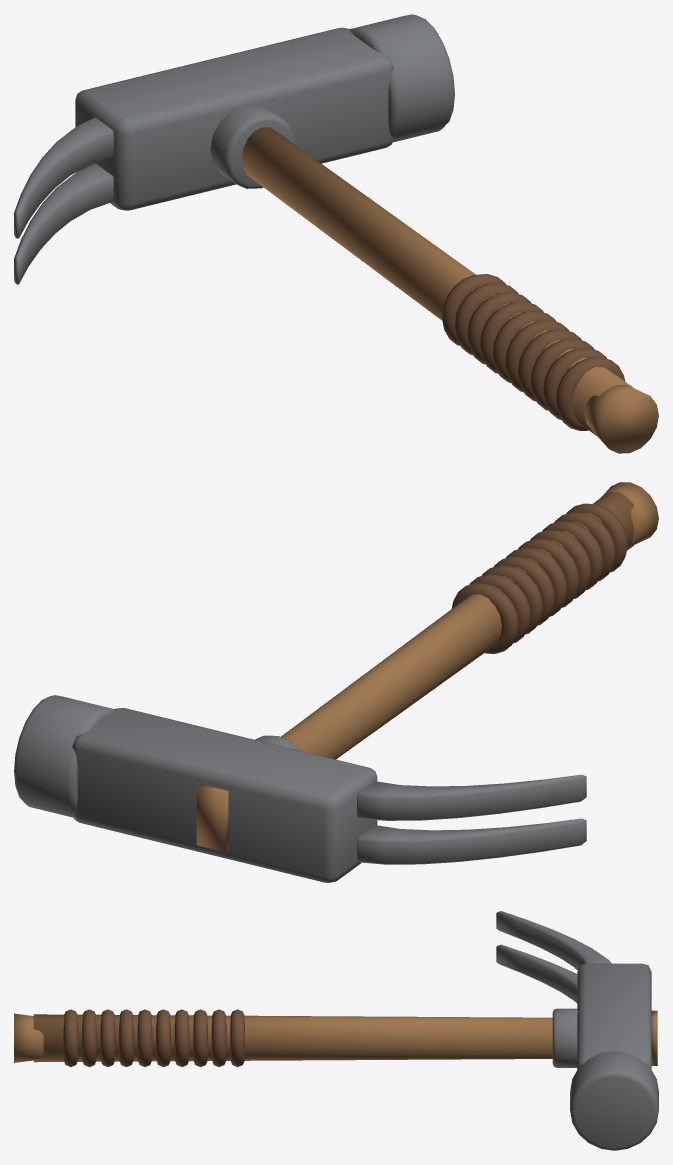
File: Hammer.fbx
3 views of the same model, one above another, from view 1: azimuth 30°, elevation 25°; view 2: azimuth 150°, elevation 25°; view 3: azimuth 270°, elevation 25° (orthographic). The views are drawn at different scales.
Visible parts, largest first — view 1: Hammer_Metal, Hammer_Wood, Hammer_Leather; view 2: Hammer_Metal, Hammer_Wood, Hammer_Leather; view 3: Hammer_Metal, Hammer_Wood, Hammer_Leather.
Boxes of the visible parts, x1,y1,x2,y2 form: Hammer_Metal: (14, 14, 454, 284); Hammer_Wood: (242, 127, 658, 453); Hammer_Leather: (441, 274, 625, 430); Hammer_Metal: (14, 695, 586, 882); Hammer_Wood: (196, 482, 658, 851); Hammer_Leather: (452, 503, 627, 653); Hammer_Metal: (496, 911, 658, 1150); Hammer_Wood: (14, 1010, 657, 1065); Hammer_Leather: (63, 1009, 244, 1067).
Bounding box in the file's own units: 1.68 × 0.36 × 2.61.
